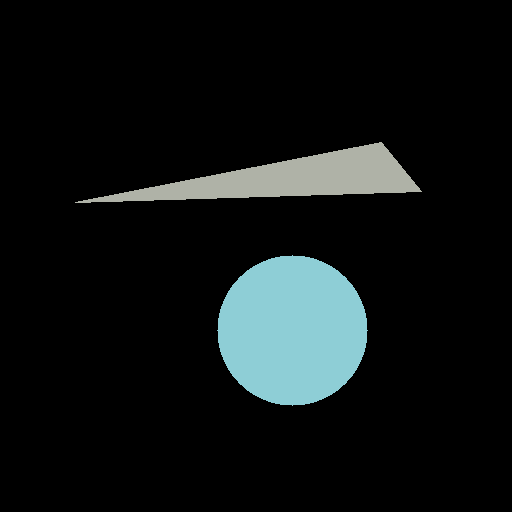circle: (217, 255, 367, 405)
triangle: (75, 142, 421, 202)
